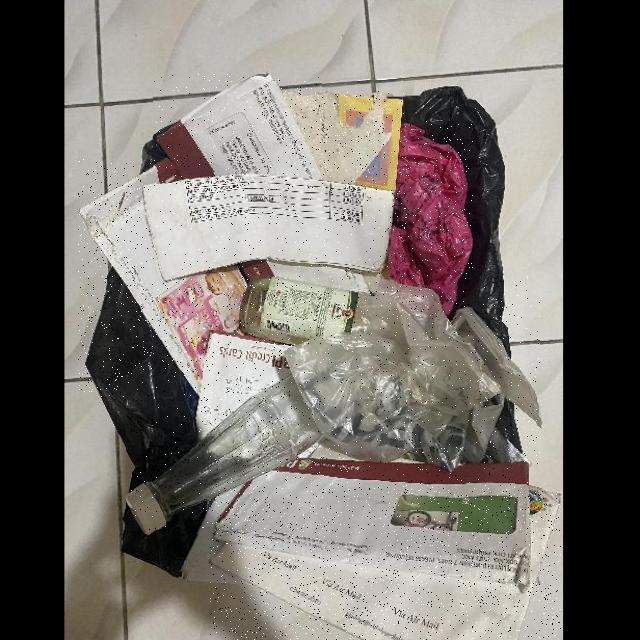glass: (127, 376, 325, 534), (240, 276, 358, 345)
paper: (210, 488, 561, 640), (78, 159, 294, 400), (216, 456, 529, 586), (143, 173, 393, 282), (154, 75, 322, 180), (282, 91, 404, 191), (198, 330, 292, 435)
plastic: (281, 275, 540, 470), (390, 122, 473, 317)
